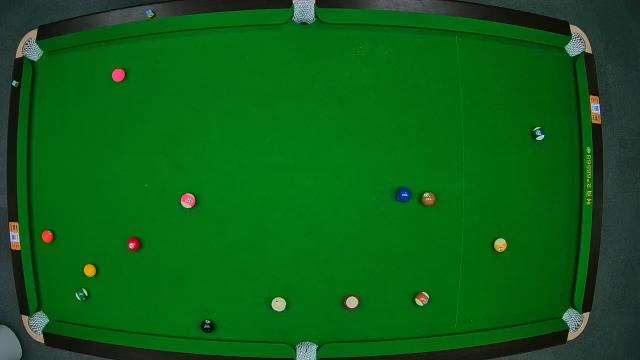bag1: (20, 40, 40, 61)
bag2: (292, 0, 315, 24)
bag3: (568, 33, 586, 57)
bag4: (28, 309, 46, 331)
bag5: (295, 339, 319, 360)
bag6: (561, 306, 583, 330)
ball0: (271, 296, 287, 314)
ball1: (84, 264, 96, 278)
ball10: (532, 125, 544, 141)
ball11: (344, 294, 360, 310)
ball12: (182, 192, 196, 209)
ball14: (74, 286, 90, 302)
ball15: (414, 292, 430, 307)
ball2: (396, 186, 412, 202)
ball3: (127, 236, 141, 252)
ball4: (112, 67, 126, 81)
ball5: (41, 229, 53, 243)
ball7: (421, 191, 437, 207)
ball8: (200, 318, 214, 334)
ball9: (492, 238, 508, 253)
